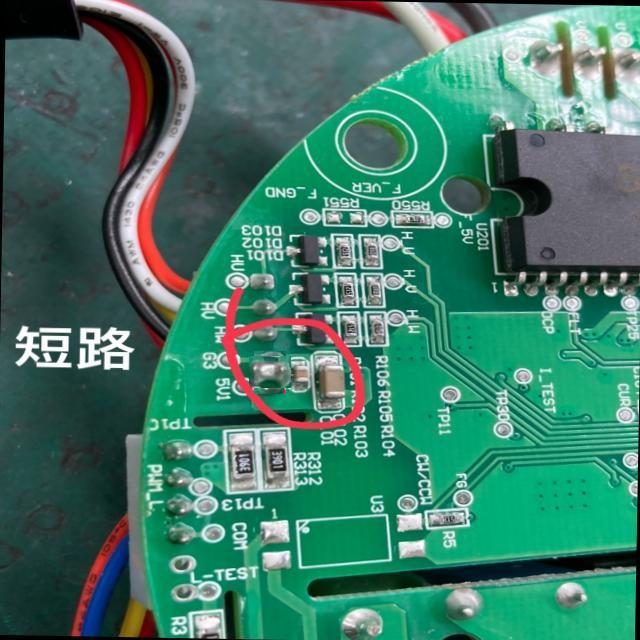damged: (251, 354, 289, 391)
